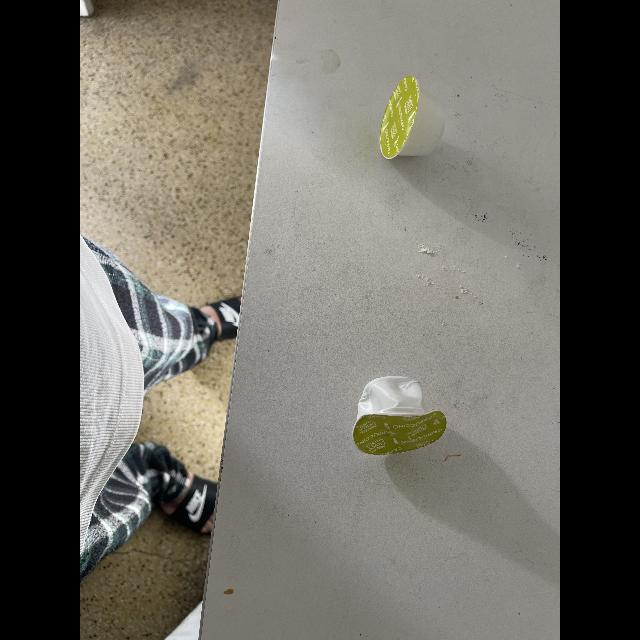damaged_capsule: (341, 368, 459, 462)
intact_capsule: (374, 76, 454, 168)
